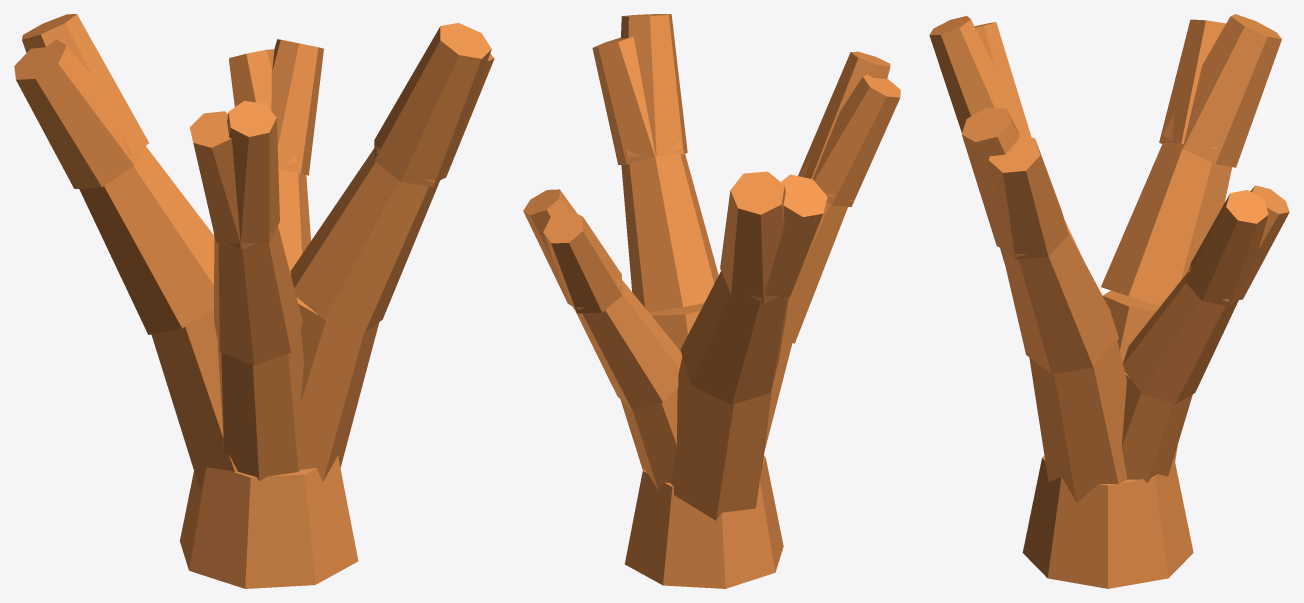
File: coral_001c_branching.glb
3 views of the same model, side by side, from view 1: azimuth 30°, elevation 25°; view 2: azimuth 150°, elevation 25°; view 3: azimuth 270°, elevation 25° (orthographic). The views are drawn at different scales.
Parts seen in each view (by area): view 1: coral_001c_branching__mesh; view 2: coral_001c_branching__mesh; view 3: coral_001c_branching__mesh.
Boxes of the visible parts, box(x1,y1,x2,y2) form: coral_001c_branching__mesh: box(14, 14, 494, 588); coral_001c_branching__mesh: box(523, 14, 900, 588); coral_001c_branching__mesh: box(929, 14, 1289, 588).
Size of the model in its own units: 0.759 by 1.07 by 0.7048.
